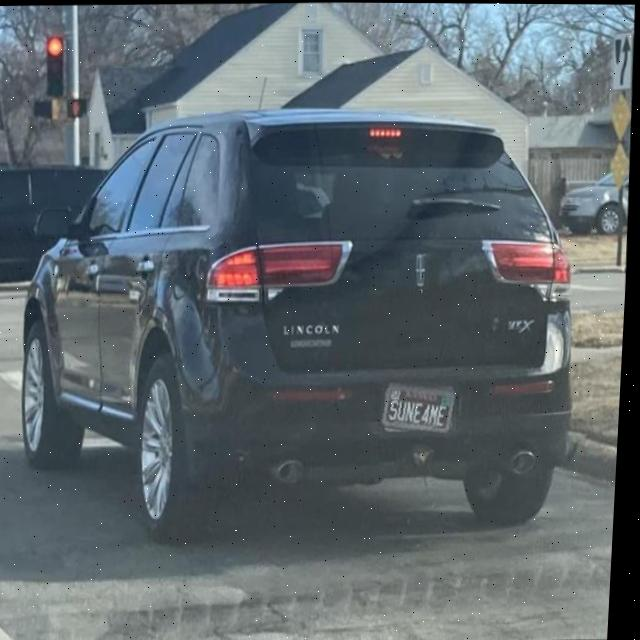LicensePlate: (385, 382, 461, 436)
